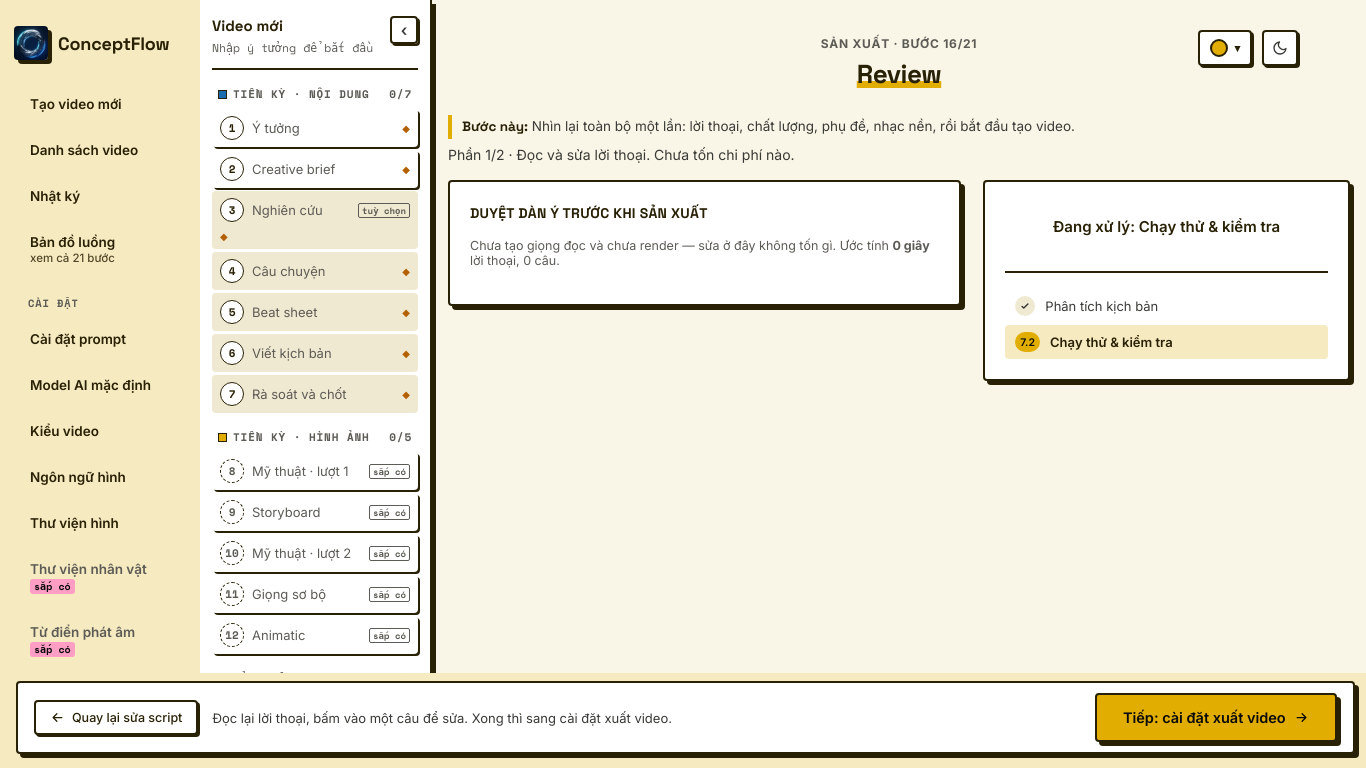
Test: ValidatePage (bước 7 — chạy thử, bước 8 — duyệt) › “Tiếp” mở phần 2: cài đặt xuất video ngay trên nút duyệt, quay lại được phần 1
The width and height of the screenshot is (1366, 768).
Click the button with test id "review-next".
click(1216, 718)  # box left=1095, top=693, right=1337, bottom=742
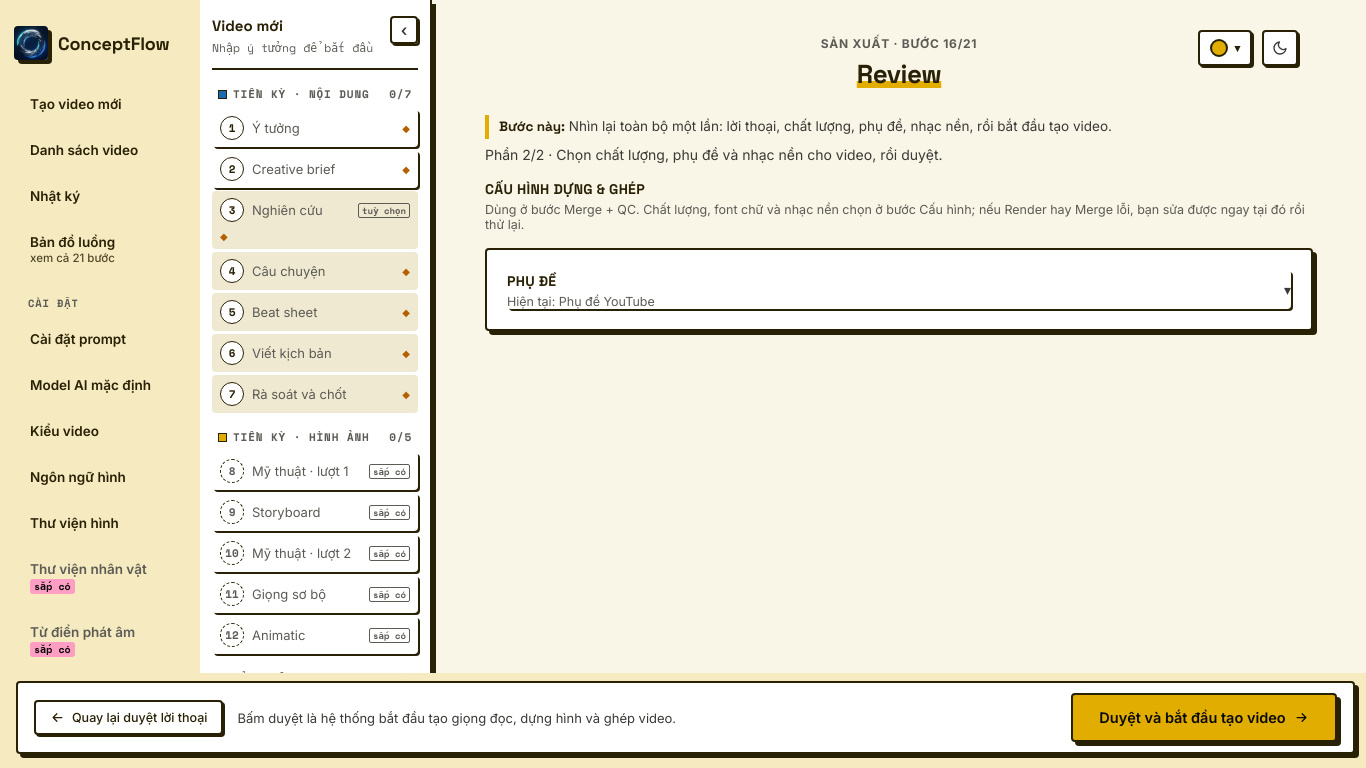
Check: the element with test id "production-settings" is shown, box left=485, top=180, right=1313, bottom=332
Check: the element with test id "production-subtitles" is shown, box left=485, top=248, right=1313, bottom=332
Check: the element with test id "outline-review" is gone
Click the button with test id "review-back".
click(129, 718)  # box left=34, top=700, right=223, bottom=735
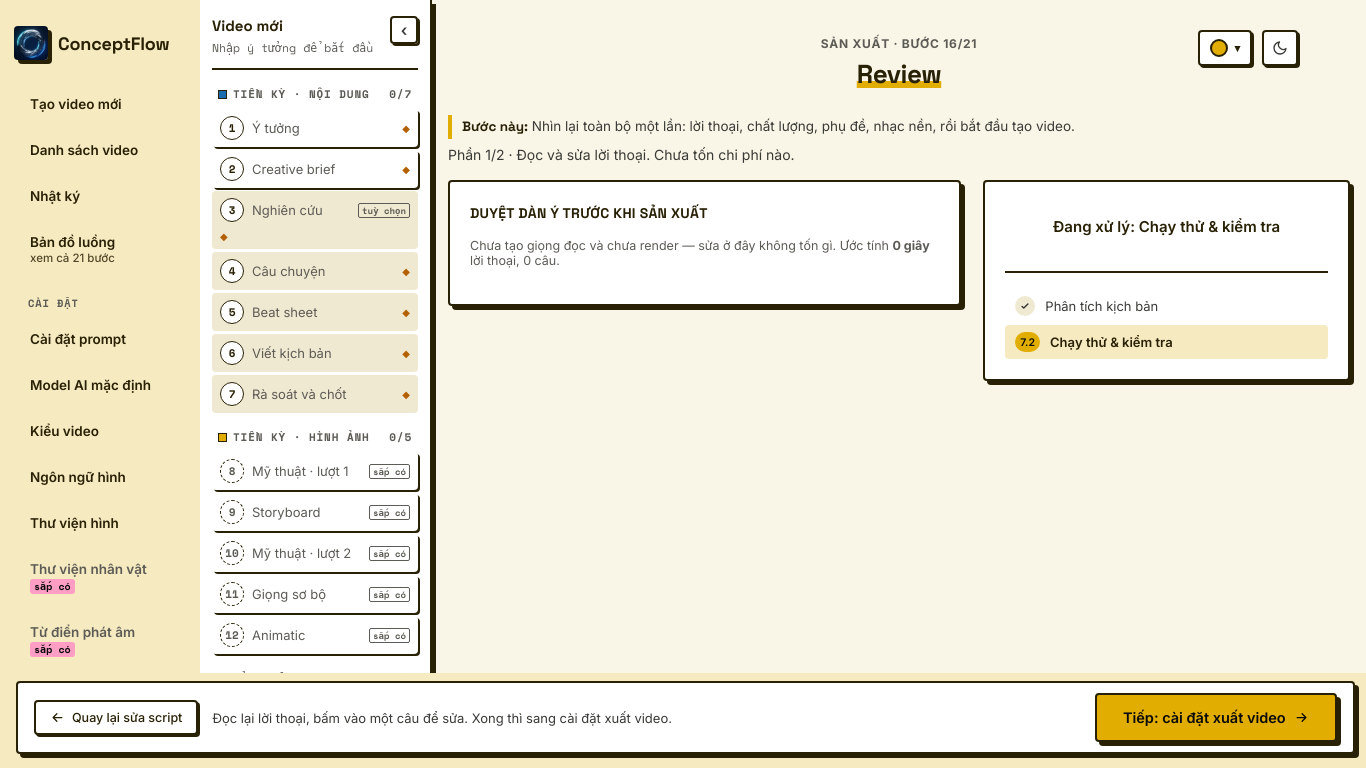
Check: the element with test id "outline-review" is shown, box left=448, top=180, right=961, bottom=306
